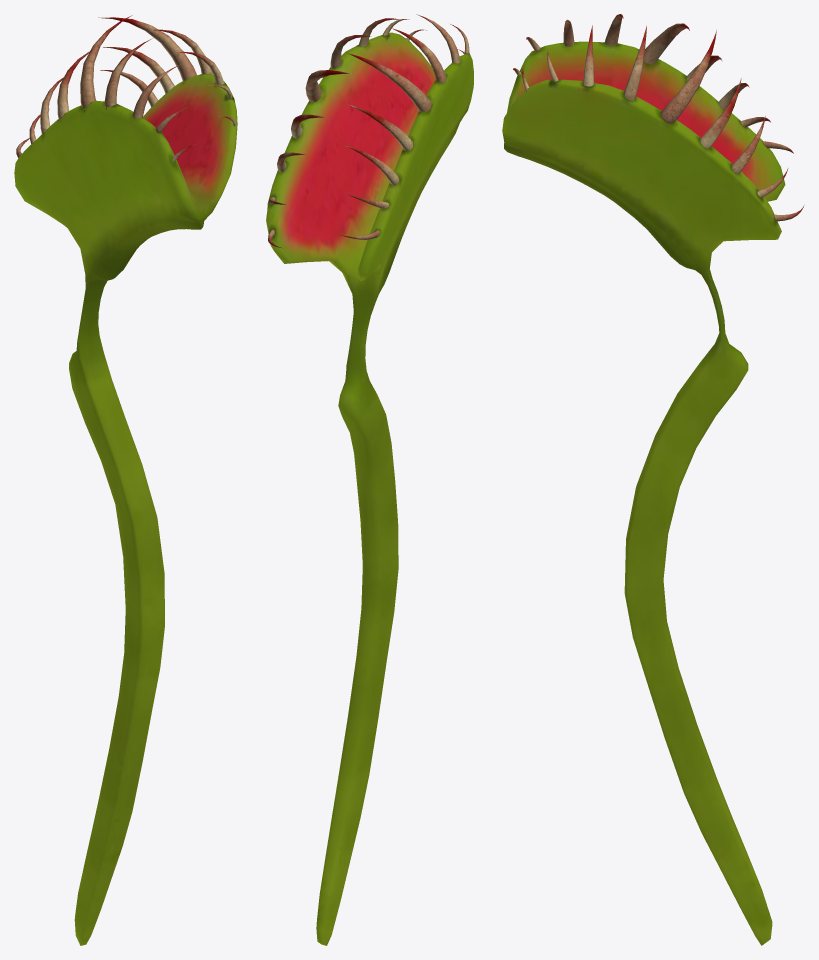
File: flytrap_with_fangs_covered_in_blood.glb
The picture shows the model from 3 angles, left to right: view 1: azimuth 30°, elevation 25°; view 2: azimuth 150°, elevation 25°; view 3: azimuth 270°, elevation 25°; orthographic projection. The views are drawn at different scales.
Parts seen in each view (by area): view 1: Object_2, Object_3; view 2: Object_2, Object_3; view 3: Object_2, Object_3.
Part boxes in pixels (x1=…): Object_2: x1=14, y1=73, x2=237, y2=945; Object_3: x1=16, y1=15, x2=236, y2=161; Object_2: x1=266, y1=32, x2=473, y2=945; Object_3: x1=268, y1=14, x2=469, y2=248; Object_2: x1=502, y1=41, x2=785, y2=945; Object_3: x1=513, y1=14, x2=804, y2=221.
Bounding box in the file's own units: 0.4888 × 3.46 × 1.02.
2 materials, 2 textured.
